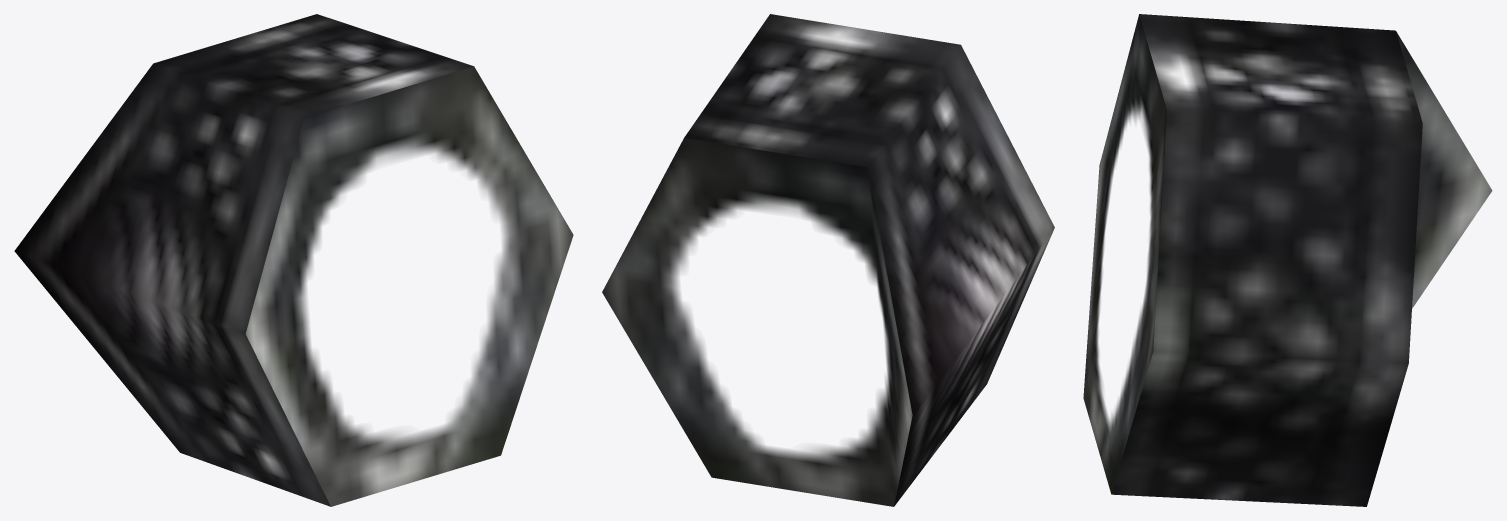
File: shadow_knight_7_wrist_right.glb
3 renders of one model, left to right at view 1: azimuth 30°, elevation 25°; view 2: azimuth 150°, elevation 25°; view 3: azimuth 270°, elevation 25°, orthographic. The views are drawn at different scales.
Parts seen in each view (by area): view 1: model_shadow_knight_7_wrist_right; view 2: model_shadow_knight_7_wrist_right; view 3: model_shadow_knight_7_wrist_right.
Boxes of the visible parts, bbox=[...] form: model_shadow_knight_7_wrist_right: bbox=[14, 14, 573, 506]; model_shadow_knight_7_wrist_right: bbox=[602, 14, 1054, 506]; model_shadow_knight_7_wrist_right: bbox=[1083, 14, 1492, 506].
Size of the model in its own units: 0.1757 by 0.1704 by 0.1511.
Materials: 1 (1 with a texture image).
